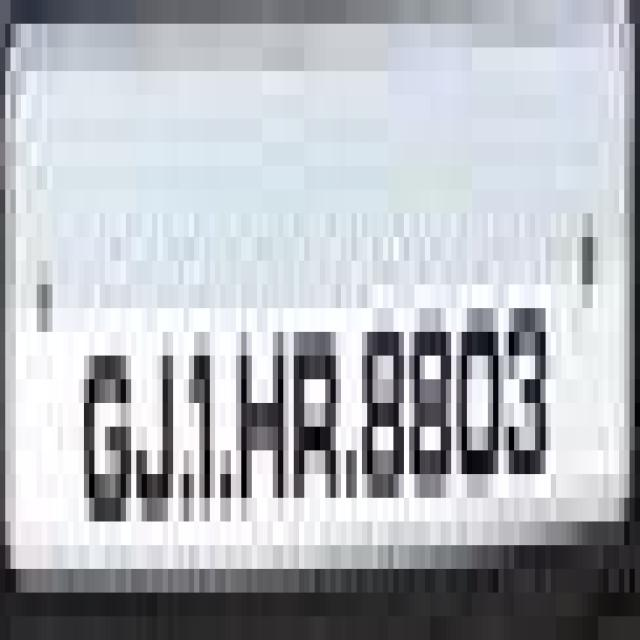license_plate: (26, 0, 640, 616)
